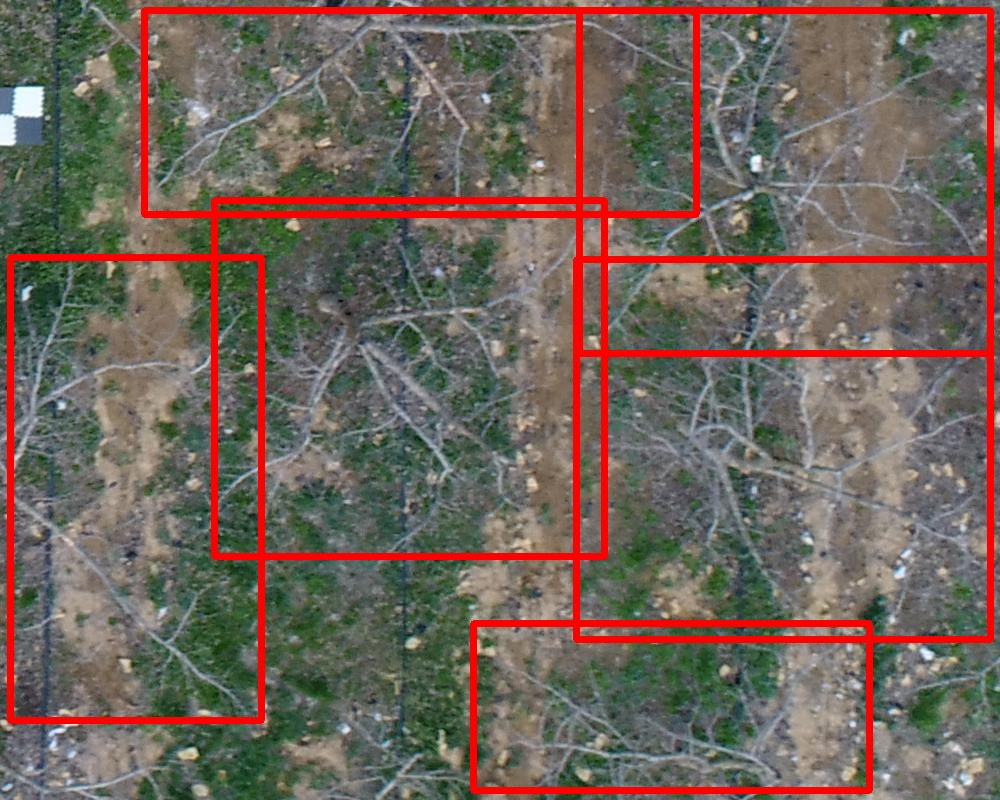apple: (576, 259, 990, 639), (579, 10, 990, 353), (214, 200, 604, 556), (10, 257, 261, 720), (144, 10, 696, 214), (473, 623, 869, 790)
